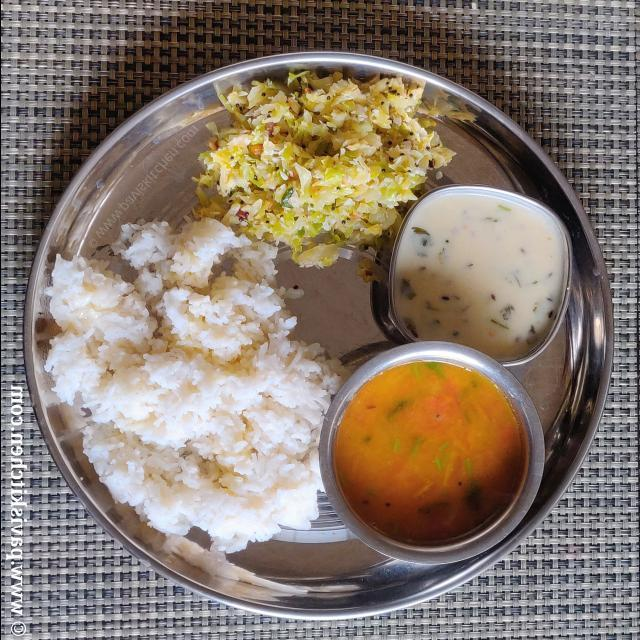dal: (322, 346, 536, 558), (382, 185, 574, 365)
rice: (84, 365, 328, 537)
